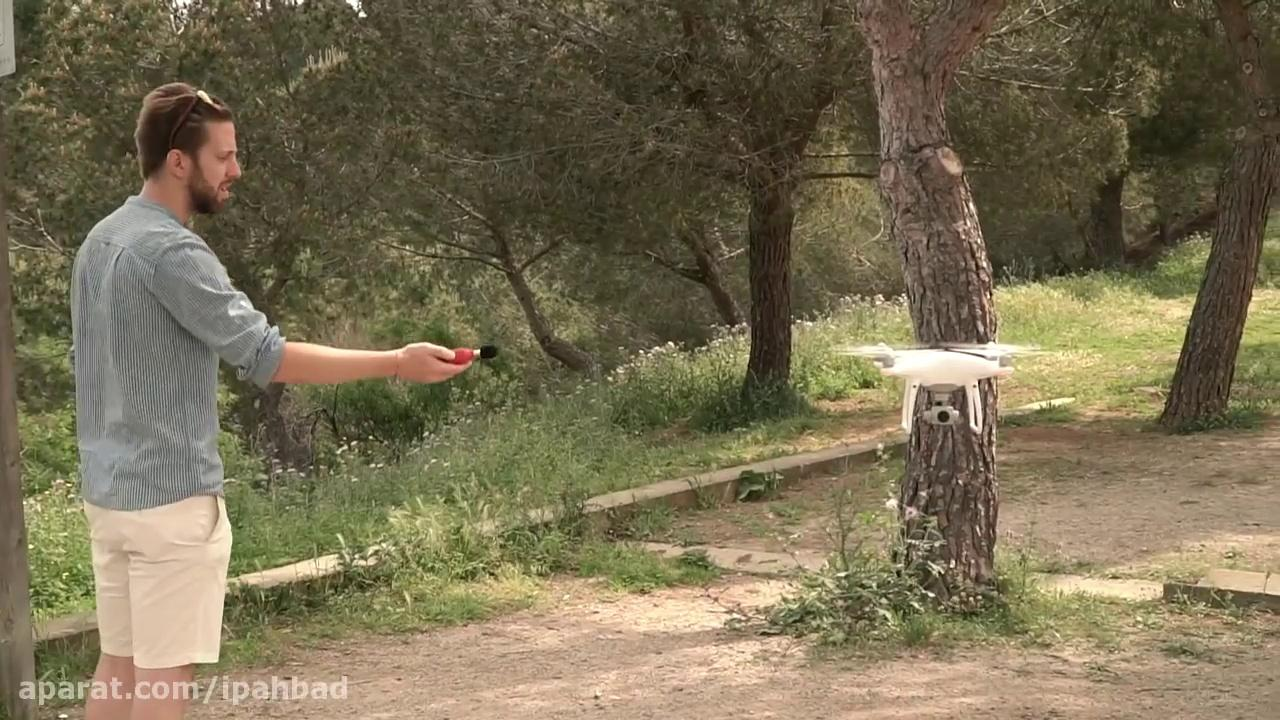drone: (838, 338, 1039, 436)
